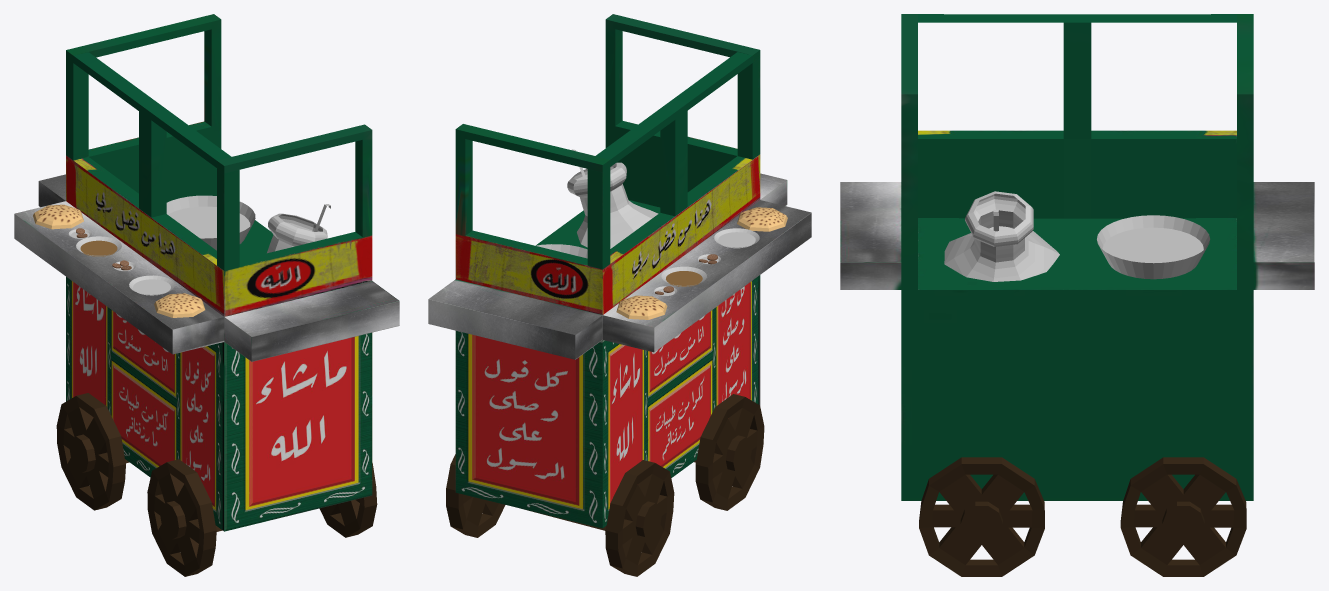
The model's file is egyptian_bean_car.fbx.
3 renders of one model, left to right at view 1: azimuth 30°, elevation 25°; view 2: azimuth 150°, elevation 25°; view 3: azimuth 270°, elevation 25°, orthographic. The views are drawn at different scales.
Visible parts, largest first — view 1: body, wheel, wheel_2, jar, bean, dish_5, bread, bread_2, liquid_1, liquid_2; view 2: body, wheel, jar, wheel_2, bread_2, bread, liquid_1, liquid_2; view 3: body, wheel_2, jar, dish_5, bean.
Part boxes in pixels (x1,y1,x2,y2): body: (14, 14, 399, 531); wheel: (56, 393, 216, 576); wheel_2: (319, 463, 377, 537); jar: (267, 213, 327, 253); bean: (168, 206, 250, 238); dish_5: (166, 195, 255, 250); bread: (154, 293, 205, 317); bread_2: (33, 204, 83, 229); liquid_1: (133, 279, 170, 295); liquid_2: (80, 240, 117, 256); body: (428, 14, 811, 528); wheel: (605, 394, 764, 576); jar: (567, 162, 658, 248); wheel_2: (446, 454, 505, 537); bread_2: (616, 295, 667, 319); bread: (737, 207, 787, 231); liquid_1: (718, 232, 755, 248); liquid_2: (666, 271, 702, 286); body: (840, 14, 1314, 500); wheel_2: (919, 457, 1246, 576); jar: (944, 191, 1059, 281); dish_5: (1097, 215, 1210, 279); bean: (1102, 227, 1203, 263).
Size of the model in its own units: 904 by 1688 by 1525.
